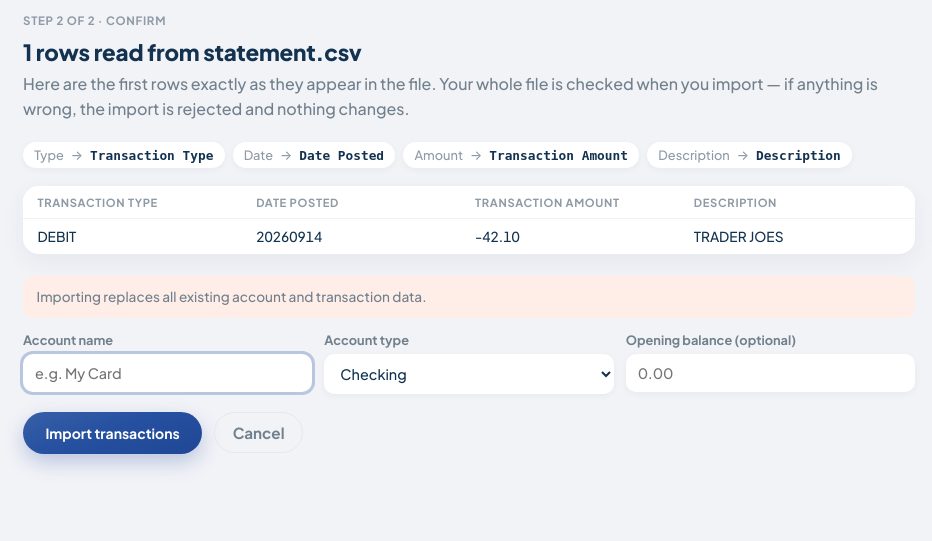
Test case: PreviewScreen › requires an account name before it will submit
Click the button "Import transactions" at (113, 433), box [23,412,202,454]
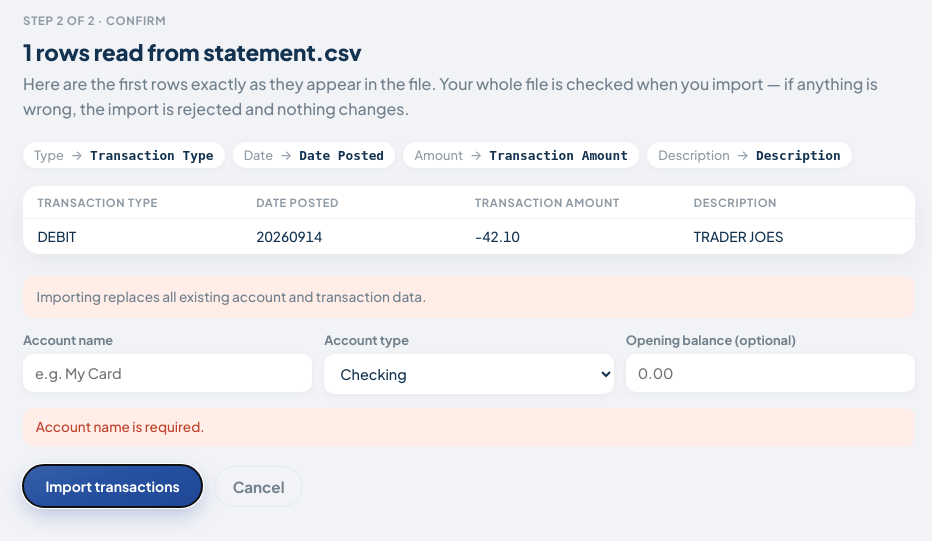
Expected: the message shows "Account name is required", [36,418,205,435]
